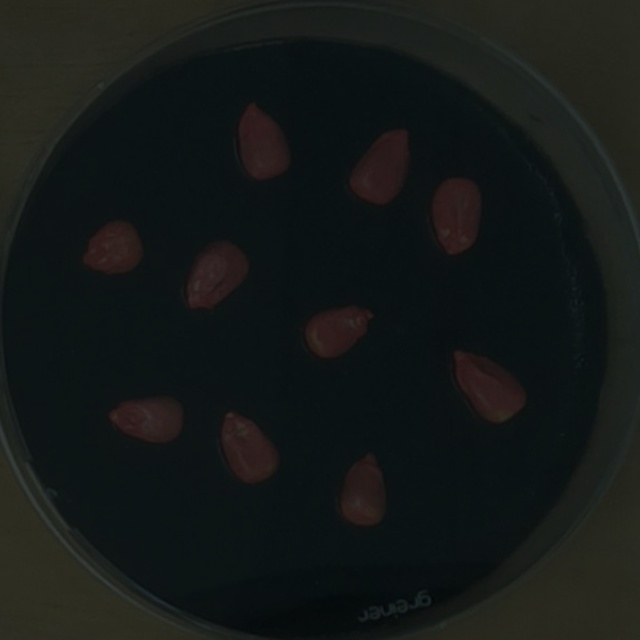Zea mays: (442, 340, 536, 429), (340, 119, 419, 213), (176, 231, 256, 318), (229, 90, 300, 186), (215, 401, 289, 491), (423, 166, 490, 264), (331, 442, 396, 535), (297, 295, 381, 365), (100, 387, 193, 449), (74, 208, 150, 280)
